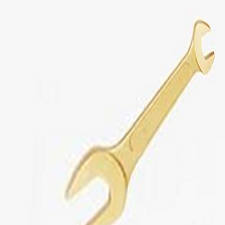Wrench: (57, 18, 218, 225)
